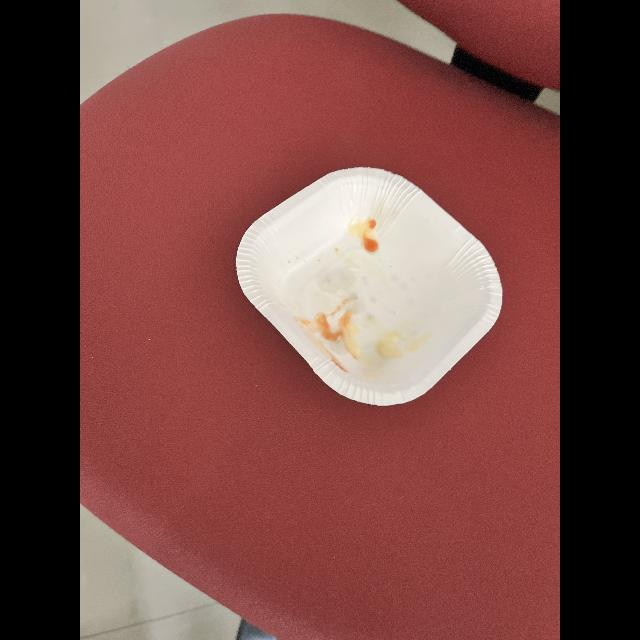cardboard_bowl: (221, 154, 514, 412)
